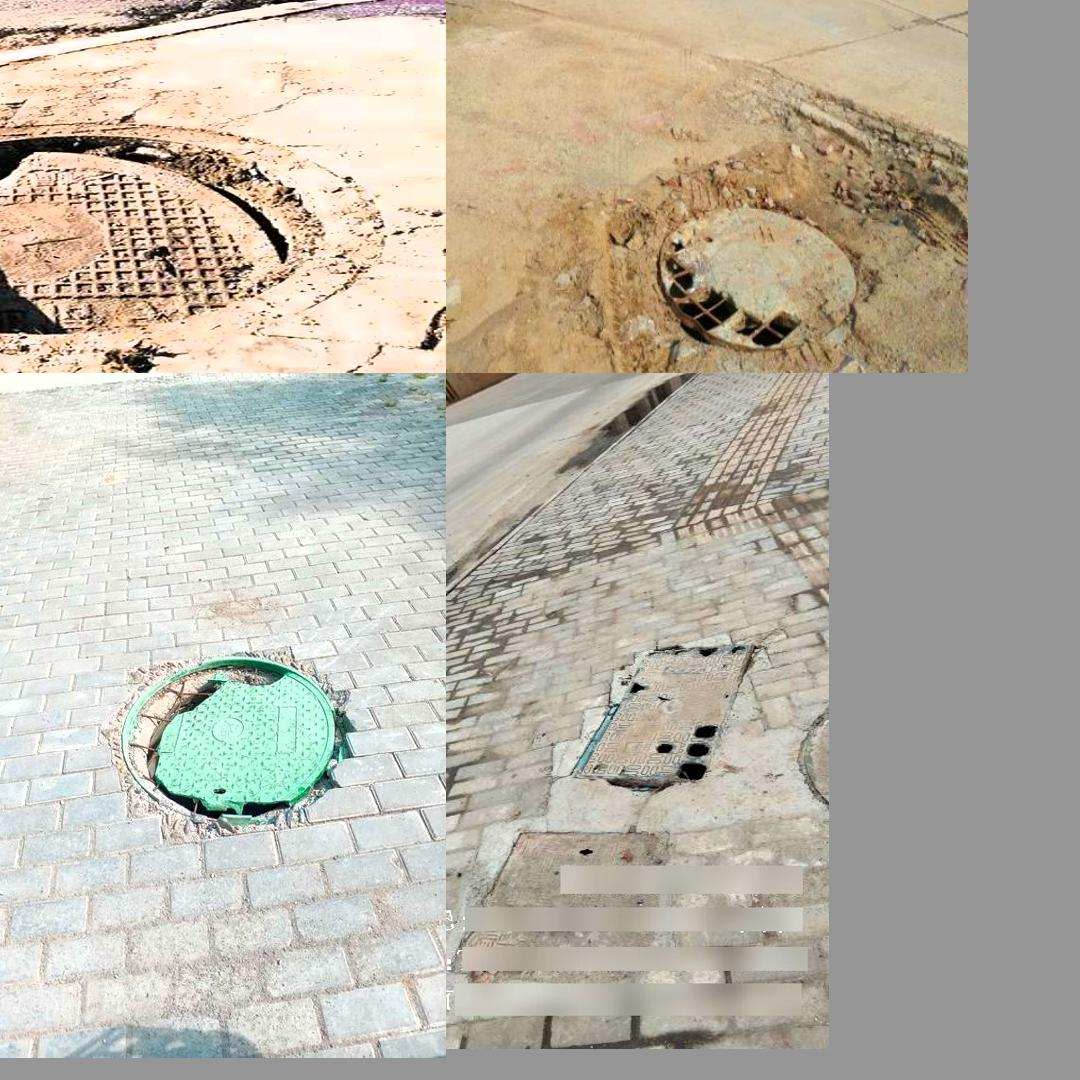broke: (0, 106, 397, 352), (99, 652, 361, 833), (566, 635, 763, 793), (658, 207, 859, 357)
